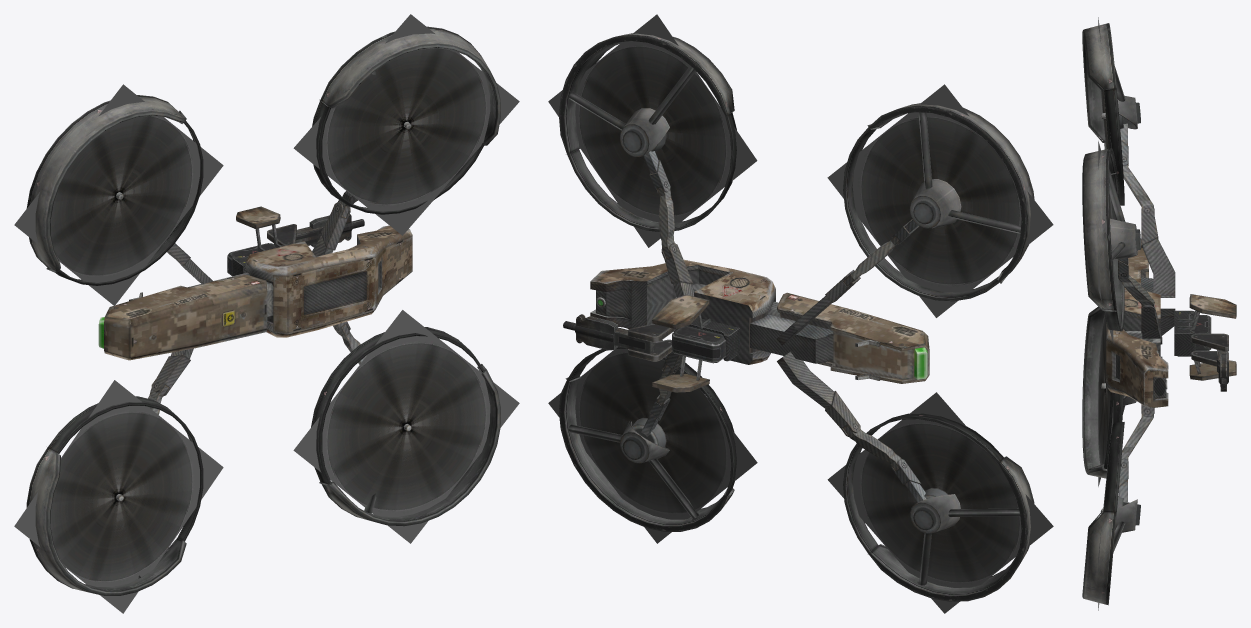
The model's file is veh_t6_drone_quad_rotor_mp_LOD0.obj.
3 renders of one model, left to right at view 1: azimuth 30°, elevation 25°; view 2: azimuth 150°, elevation 25°; view 3: azimuth 270°, elevation 25°, orthographic. The views are drawn at different scales.
Visible parts, largest first — view 1: mtl_t6_veh_drone_quad_rotor_blades, mtl_t6_veh_drone_quad_rotor_body, mtl_t6_veh_drone_quad_rotor_gun; view 2: mtl_t6_veh_drone_quad_rotor_blades, mtl_t6_veh_drone_quad_rotor_body, mtl_t6_veh_drone_quad_rotor_gun; view 3: mtl_t6_veh_drone_quad_rotor_body, mtl_t6_veh_drone_quad_rotor_gun, mtl_t6_veh_drone_quad_rotor_blades.
Boxes of the visible parts, x1,y1,x2,y2 form: mtl_t6_veh_drone_quad_rotor_blades: (14, 14, 519, 613); mtl_t6_veh_drone_quad_rotor_body: (26, 26, 500, 595); mtl_t6_veh_drone_quad_rotor_gun: (227, 214, 364, 276); mtl_t6_veh_drone_quad_rotor_blades: (548, 14, 1053, 613); mtl_t6_veh_drone_quad_rotor_body: (559, 33, 1034, 601); mtl_t6_veh_drone_quad_rotor_gun: (563, 314, 739, 363); mtl_t6_veh_drone_quad_rotor_body: (1082, 23, 1236, 605); mtl_t6_veh_drone_quad_rotor_gun: (1174, 310, 1228, 391); mtl_t6_veh_drone_quad_rotor_blades: (1098, 17, 1113, 610).
Bounding box in the file's own units: 100 × 100 × 29.6.
